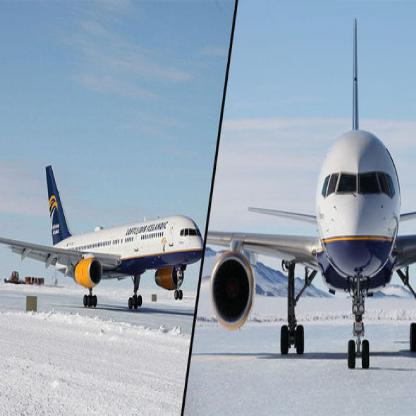CIV_Plane: (204, 13, 416, 385), (0, 160, 204, 308)
